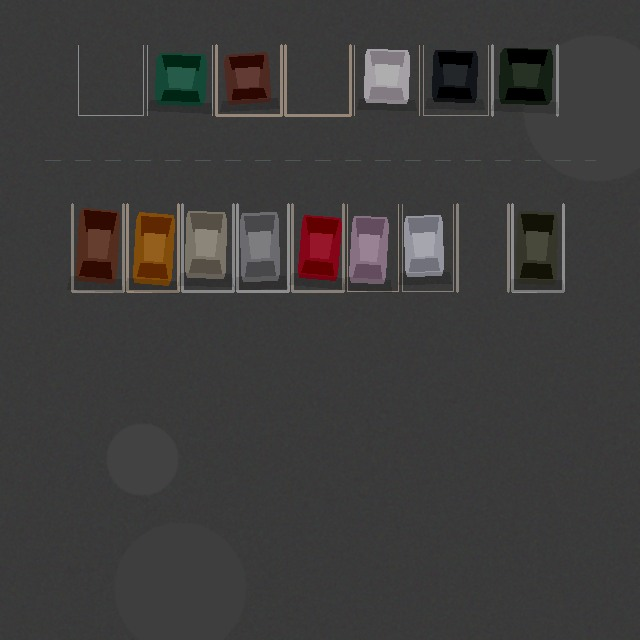space-empty: (78, 45, 143, 115), (285, 45, 350, 115), (457, 204, 508, 291)
space-occupied: (147, 45, 212, 115), (216, 45, 281, 115), (354, 45, 419, 115), (423, 45, 488, 115), (492, 45, 557, 115), (72, 204, 123, 291), (127, 204, 178, 291), (182, 204, 233, 291), (237, 204, 288, 291), (292, 204, 343, 291), (347, 204, 398, 291), (402, 204, 453, 291), (512, 204, 563, 291)
